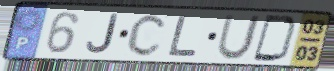6: (45, 10, 81, 56)
C: (124, 12, 170, 58)
D: (250, 13, 300, 64)
J: (84, 12, 120, 55)
L: (166, 13, 200, 57)
U: (214, 14, 263, 62)
